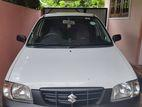car: (5, 14, 139, 107)
